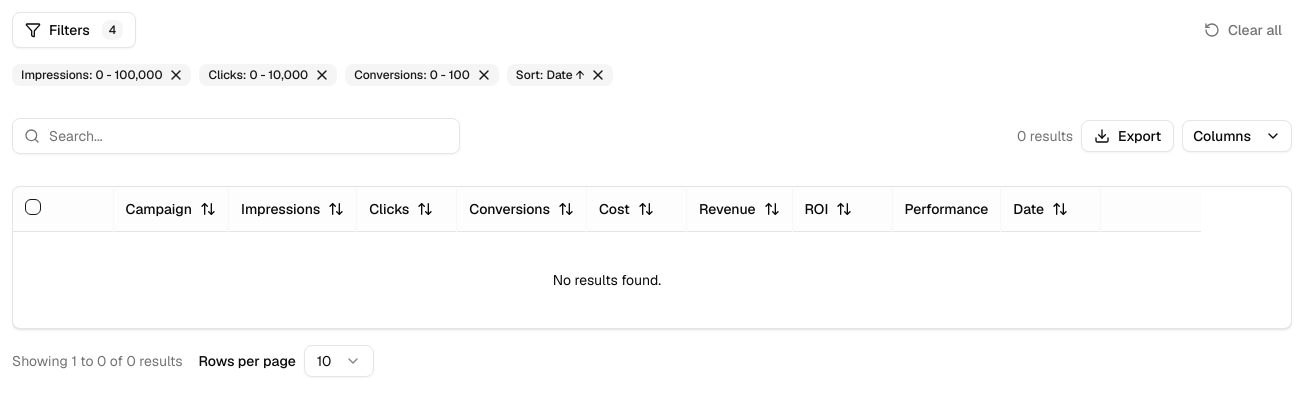
Test case: DataTable Filtering Functionality › should show clear button when search has value
The image size is (1304, 394).
In the field with placeholder "Search...": (236, 136) left=12, top=118, right=460, bottom=154, type "test"
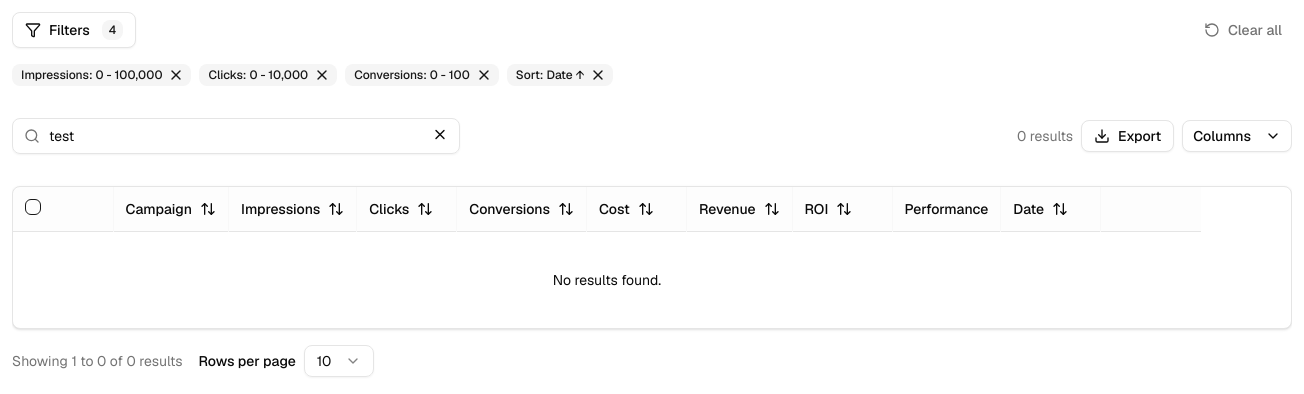
expect the button named "Clear search" is shown: met, box left=428, top=122, right=452, bottom=146
